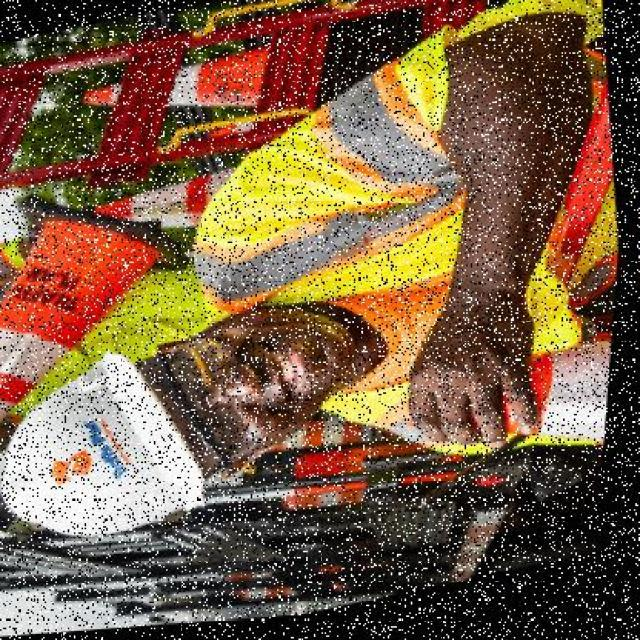helmet: (0, 326, 233, 564)
vest: (246, 0, 626, 461)
